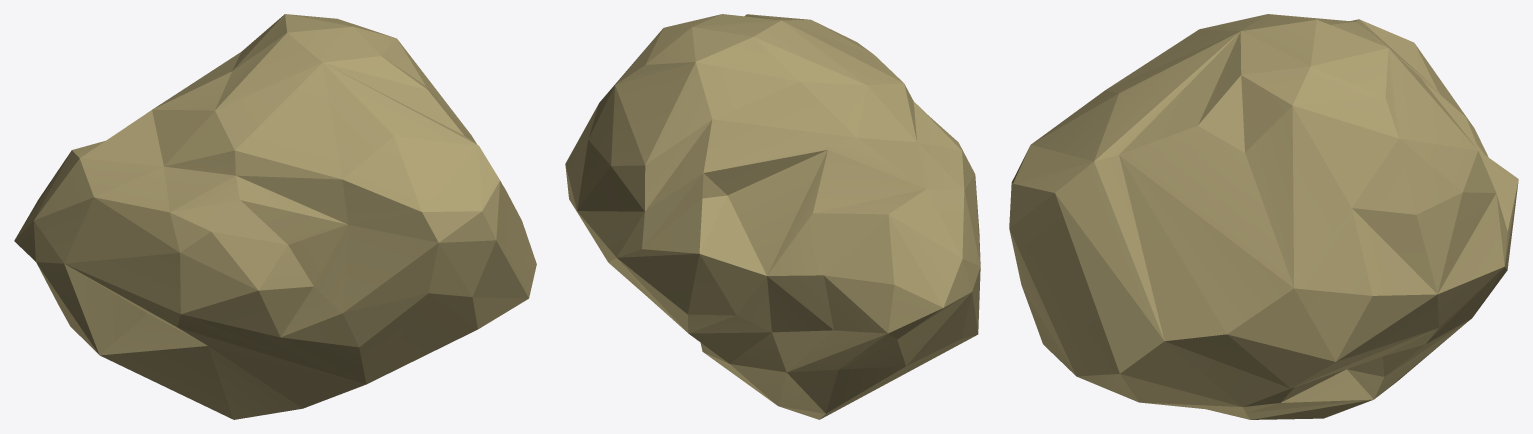
Rendered from SM_rock_73.fbx.
3 renders of one model, left to right at view 1: azimuth 30°, elevation 25°; view 2: azimuth 150°, elevation 25°; view 3: azimuth 270°, elevation 25°, orthographic. The views are drawn at different scales.
Visible parts, largest first — view 1: rock_73; view 2: rock_73; view 3: rock_73.
Part boxes in pixels (bbox=[...]): rock_73: bbox=[14, 14, 536, 419]; rock_73: bbox=[565, 14, 980, 419]; rock_73: bbox=[1009, 14, 1518, 419].
Bounding box in the file's own units: 209 × 168 × 185.
